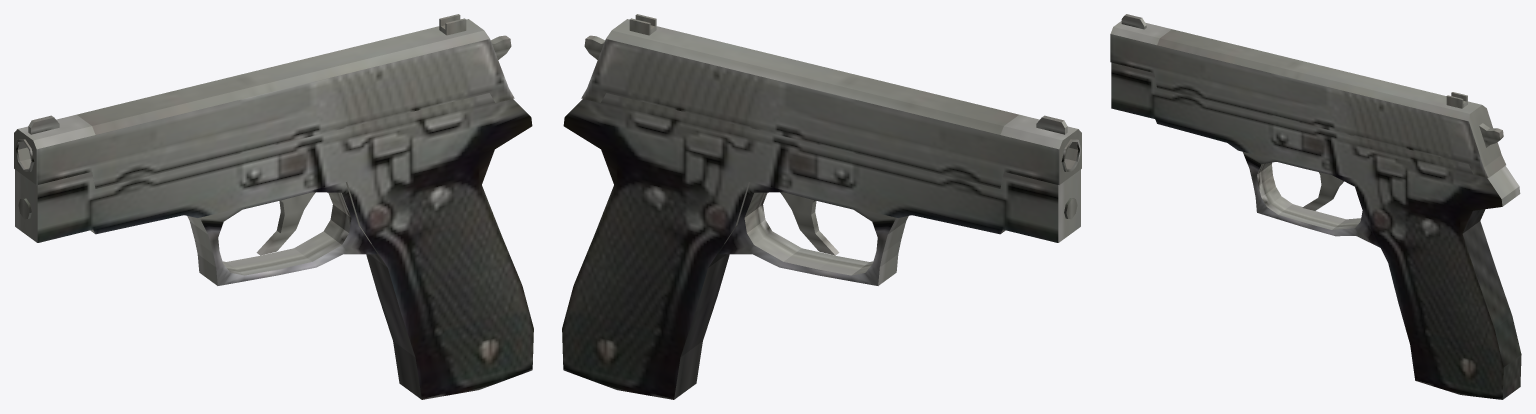
The model's file is SigP226.fbx.
3 renders of one model, left to right at view 1: azimuth 30°, elevation 25°; view 2: azimuth 150°, elevation 25°; view 3: azimuth 330°, elevation 25°, orthographic. The views are drawn at different scales.
Visible parts, largest first — view 1: Pistol, Slide, Trigger; view 2: Pistol, Slide, Trigger; view 3: Pistol, Slide, Trigger.
Boxes of the visible parts, box(x1,y1,x2,y2) form: Pistol: box(14, 93, 533, 399); Slide: box(14, 14, 514, 188); Trigger: box(256, 192, 315, 255); Pistol: box(562, 93, 1081, 399); Slide: box(581, 14, 1081, 188); Trigger: box(780, 192, 839, 255); Pistol: box(1111, 62, 1521, 399); Slide: box(1110, 14, 1505, 177); Trigger: box(1302, 172, 1343, 210).
Bounding box in the file's own units: 382 × 268 × 30.
Materials: 1 (1 with a texture image).
